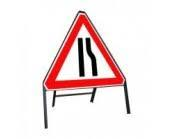narrow_road: (40, 8, 127, 87)
